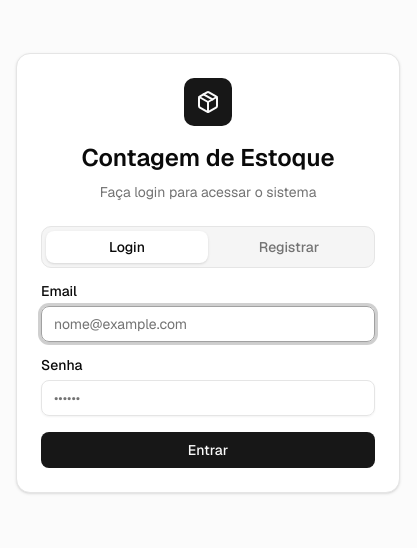
it: LoginPage › deve voltar para aba de login ao clicar em "Login"
Note: Vai para registro
Click the button "Registrar" at (289, 247), box [208,231,370,263]
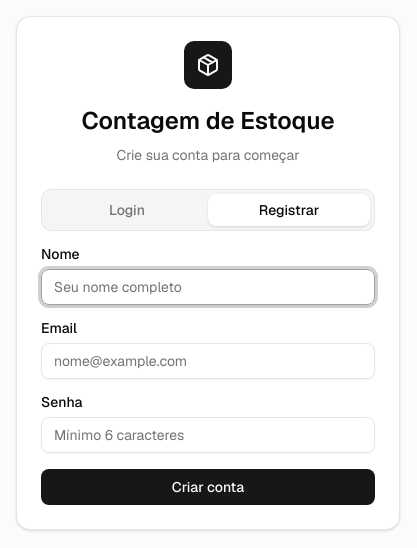
Result: the text "Crie sua conta para começar" is shown at [116,146,300,164]
Note: Volta para login
Click the button "Login" at (127, 210), box [46,194,208,226]
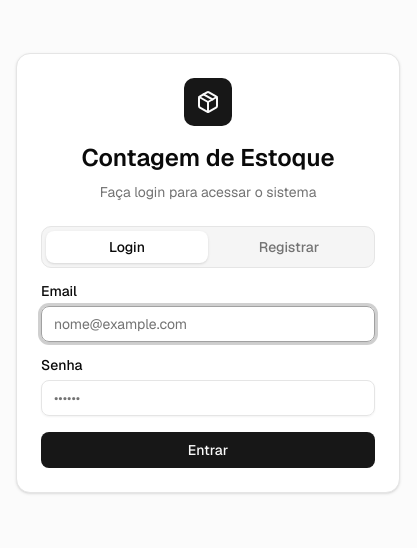
Result: the text "Faça login para acessar o sistema" is shown at [100,183,316,201]
